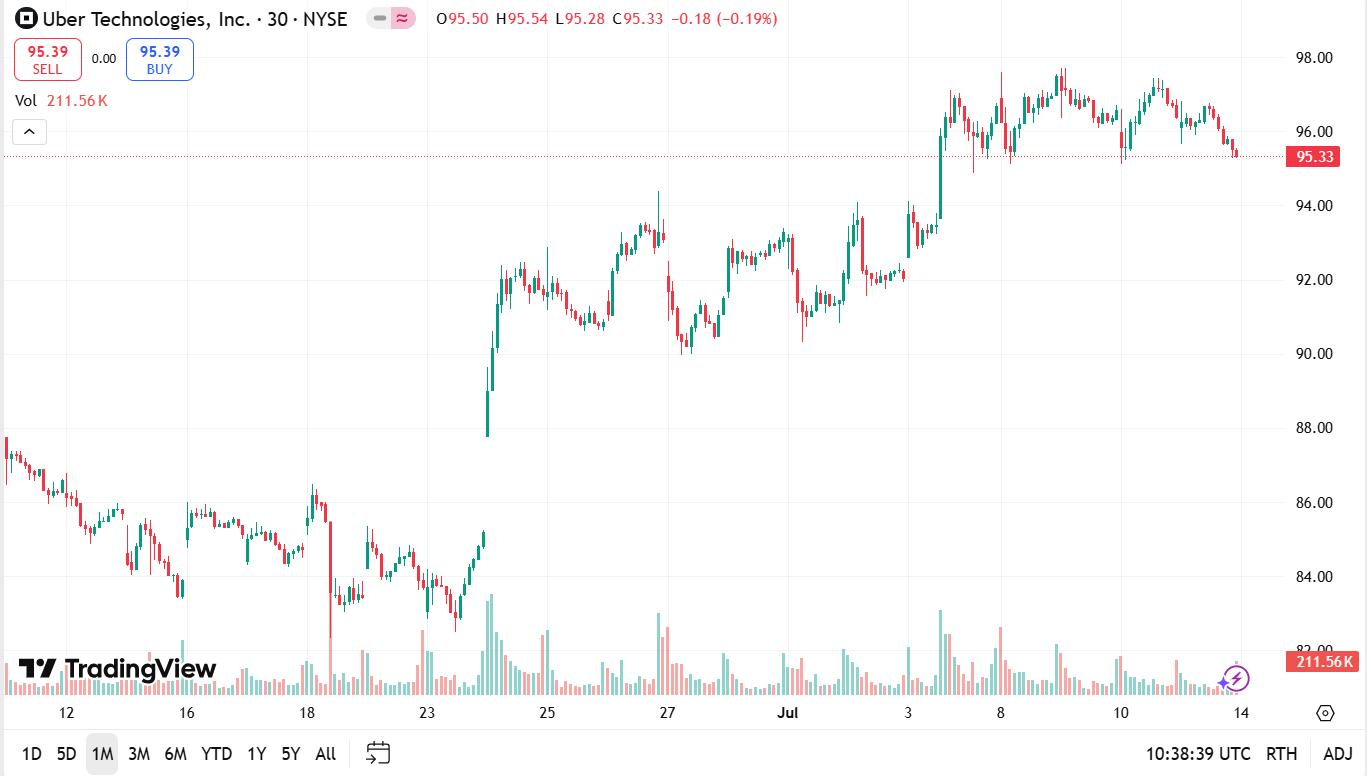Downtrend: (546, 239, 614, 349), (299, 469, 350, 615), (653, 203, 698, 365), (1197, 79, 1246, 168), (137, 503, 179, 591)
Sideways: (1014, 52, 1118, 141), (724, 212, 797, 274)
Uptrend: (439, 237, 516, 622), (914, 89, 954, 253), (826, 212, 863, 317)
